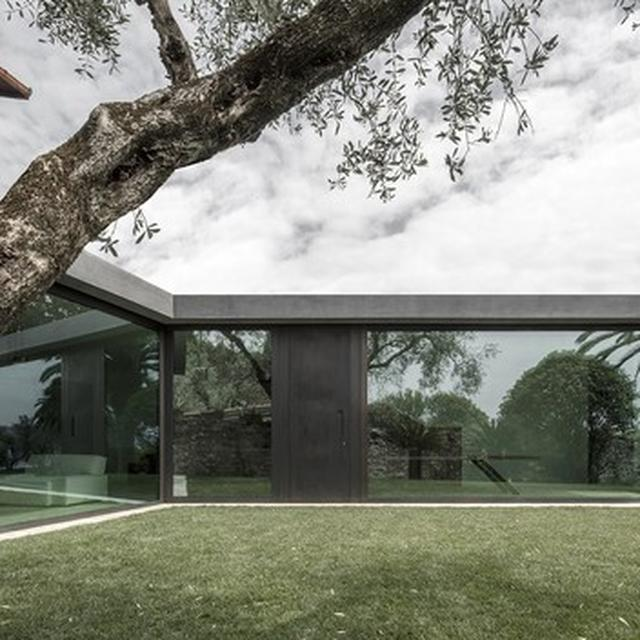building: (0, 246, 640, 533)
